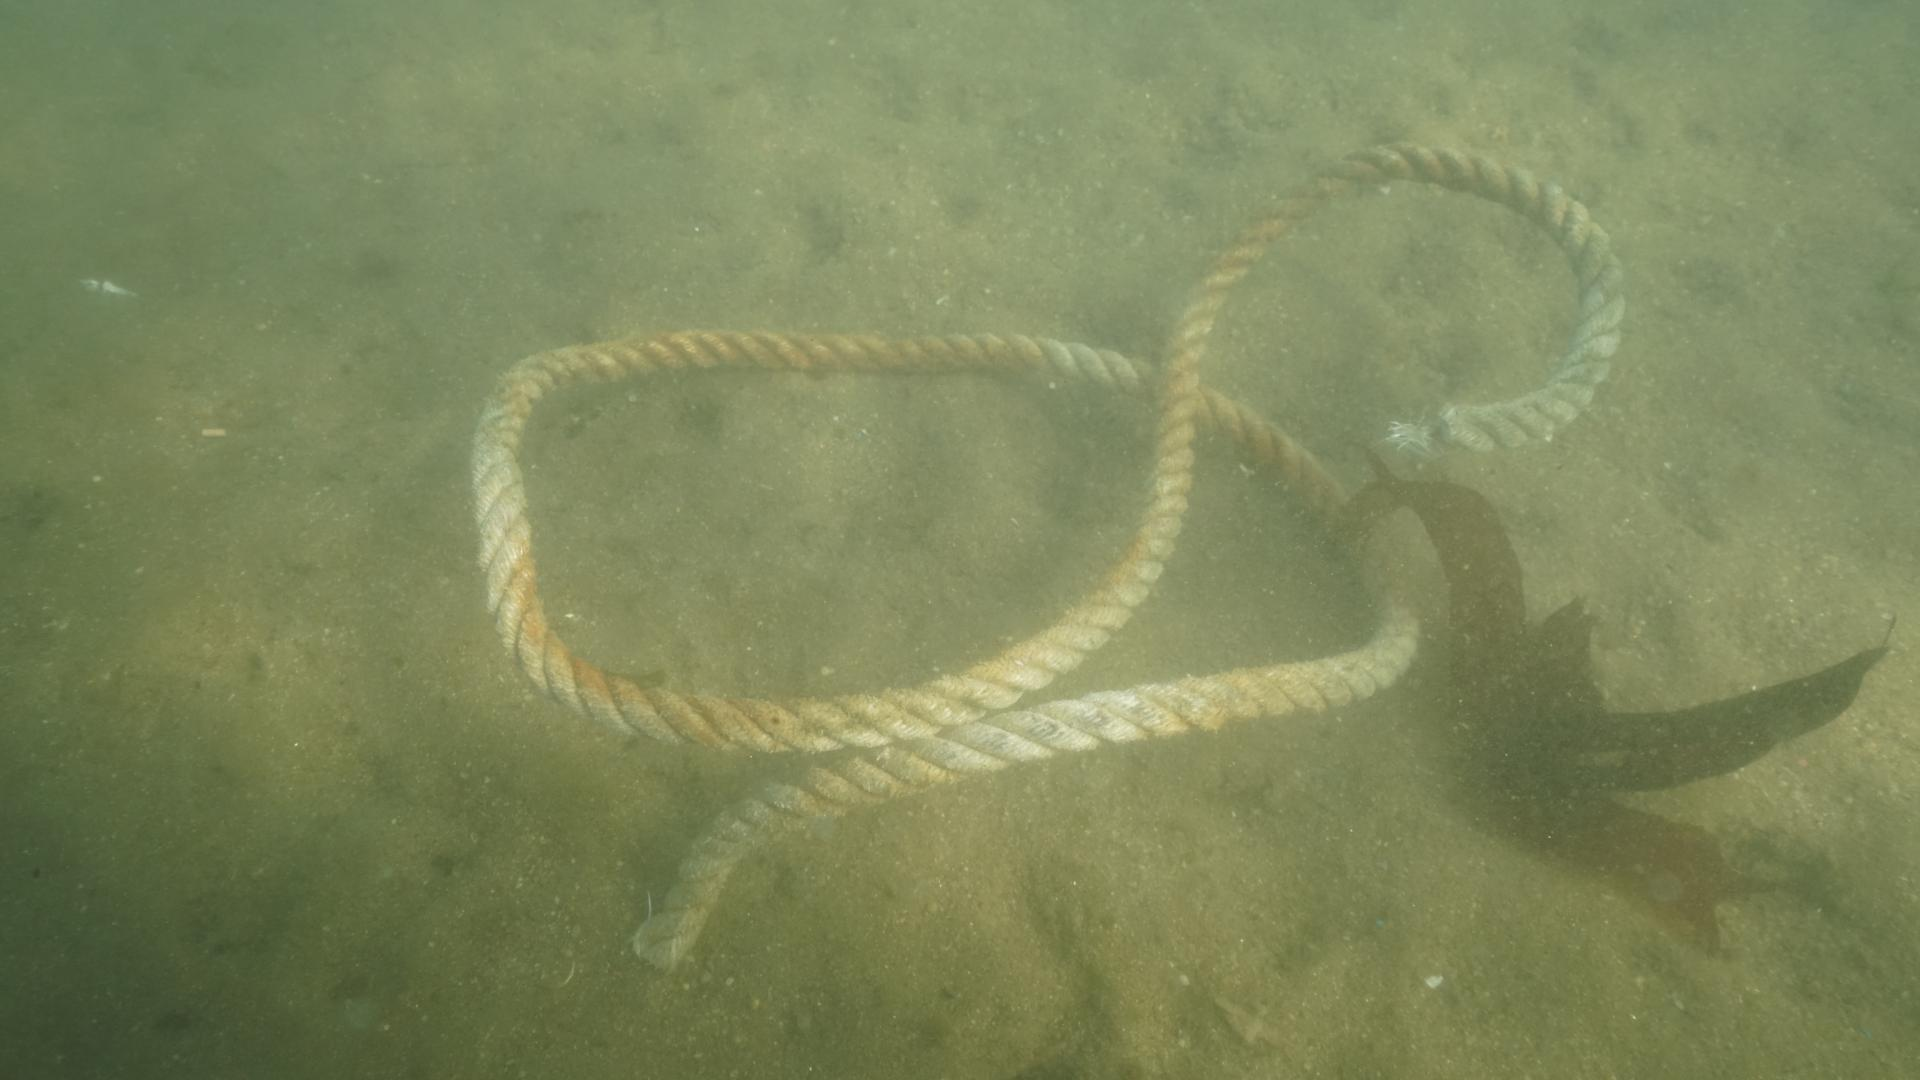rope: (463, 133, 1635, 952)
